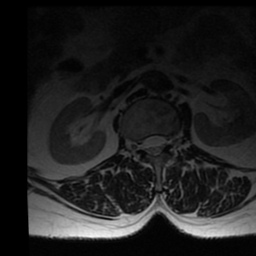CCS_normal: (149, 129, 158, 161)
LFS_normal: (165, 131, 173, 150)
LLS_normal: (158, 129, 166, 156)
RFS_normal: (134, 134, 142, 155)
RLS_normal: (141, 131, 149, 156)
